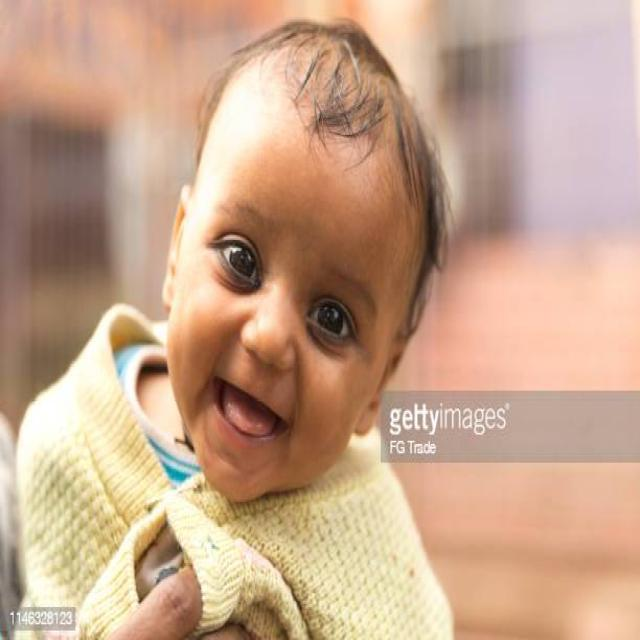non-dog: (0, 14, 460, 640)
